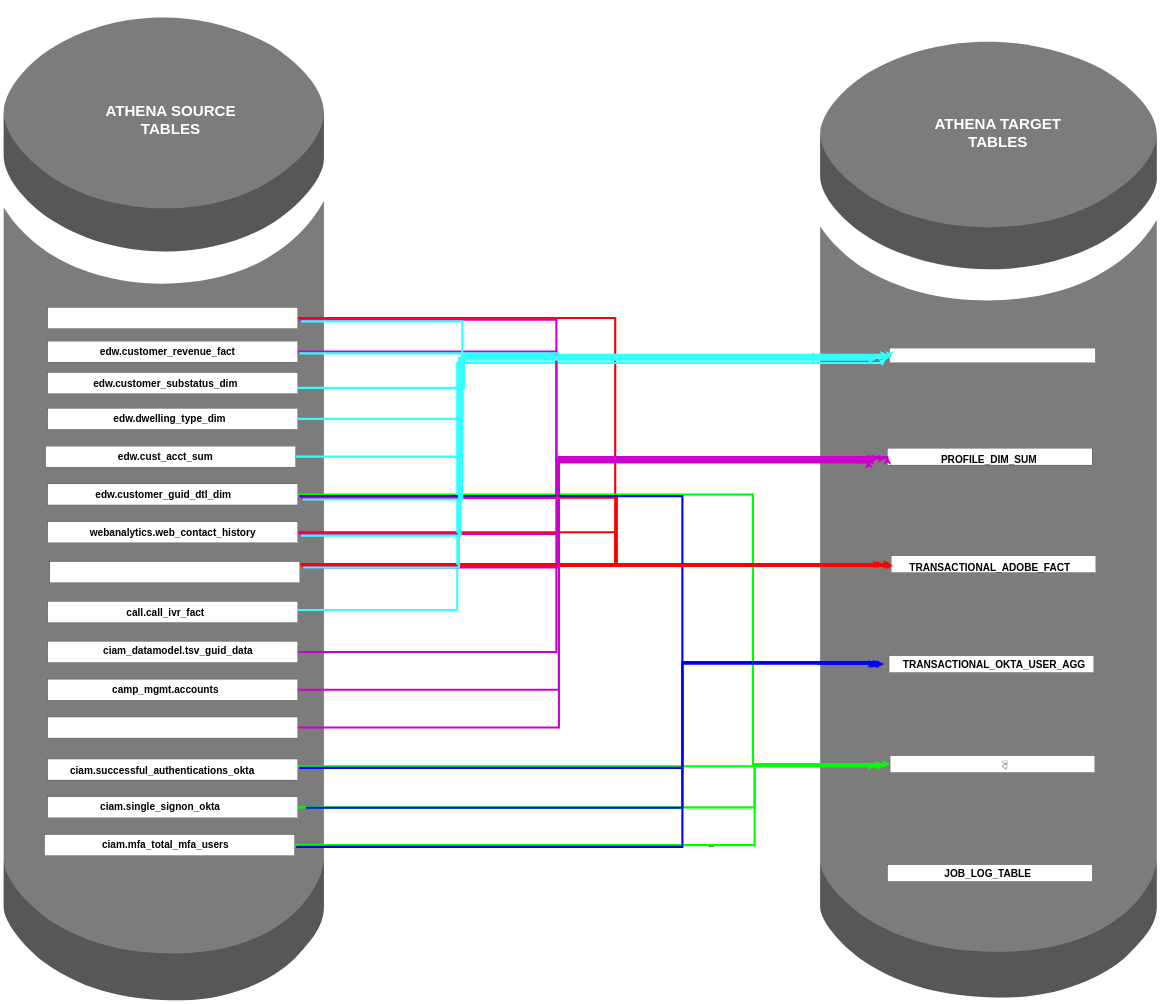
This 1160x1004 diagram has some shape labels left out. The box of each missing label's shape, as (x1, y1, x2, y2) in pixels:
ACCOUNT_DIM_SUM: (889, 348, 1095, 363)
edw.customer_dim: (48, 307, 298, 329)
mobile_data_temp.app_contact_history: (50, 561, 300, 583)
pstage.ALL_CUST_NOTIFICATION_METHODS: (48, 717, 298, 738)
TRANSACTIONAL_OKTA_DAY_AGG: (890, 755, 1095, 772)
